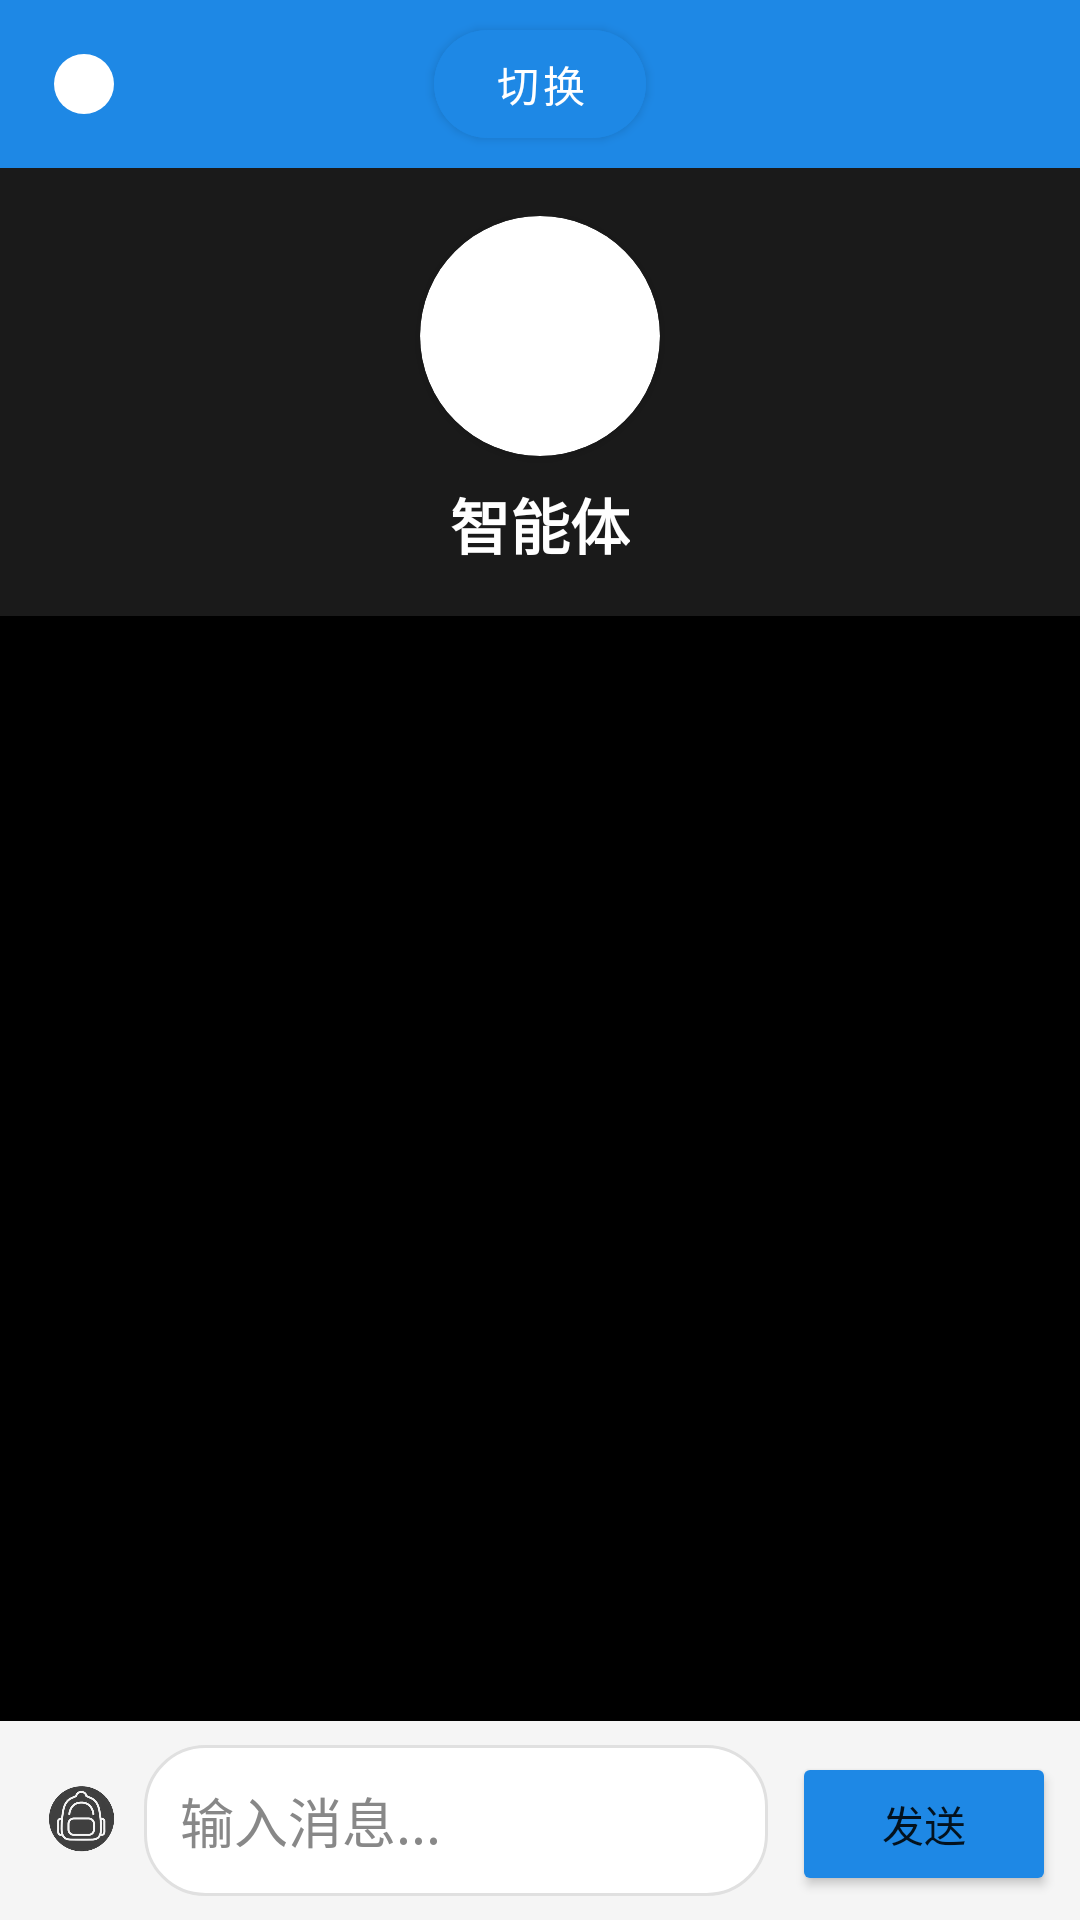

Where to tap for icons on this 1080px×1920px app screen, as [x,y]:
bag: [81,1818]
